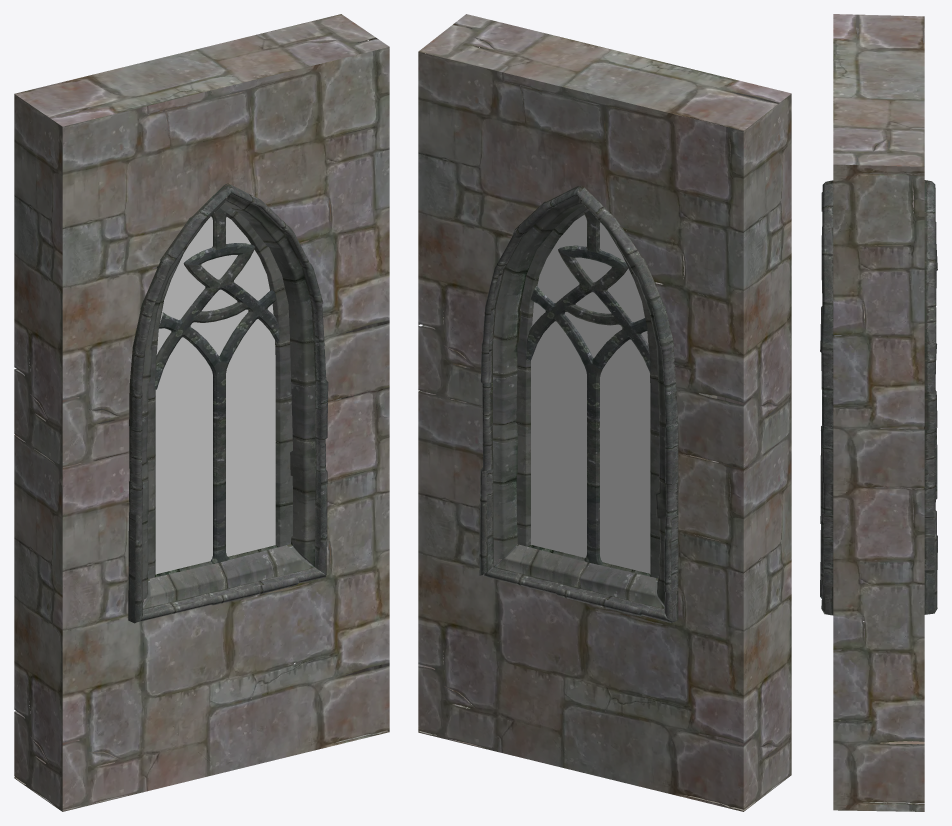
3 renders of one model, left to right at view 1: azimuth 30°, elevation 25°; view 2: azimuth 150°, elevation 25°; view 3: azimuth 270°, elevation 25°, orthographic. The views are drawn at different scales.
Parts seen in each view (by area): view 1: SM_BB_T3_Extended_Wall_Windowframe_Narrow_10_LOD0; view 2: SM_BB_T3_Extended_Wall_Windowframe_Narrow_10_LOD0; view 3: SM_BB_T3_Extended_Wall_Windowframe_Narrow_10_LOD0.
Part boxes in pixels (<box>): SM_BB_T3_Extended_Wall_Windowframe_Narrow_10_LOD0: <box>14,14,389,811</box>; SM_BB_T3_Extended_Wall_Windowframe_Narrow_10_LOD0: <box>418,14,791,811</box>; SM_BB_T3_Extended_Wall_Windowframe_Narrow_10_LOD0: <box>820,14,937,811</box>.
Size of the model in its own units: 1.5 by 3.01 by 0.4969.
3 materials, 2 textured.
